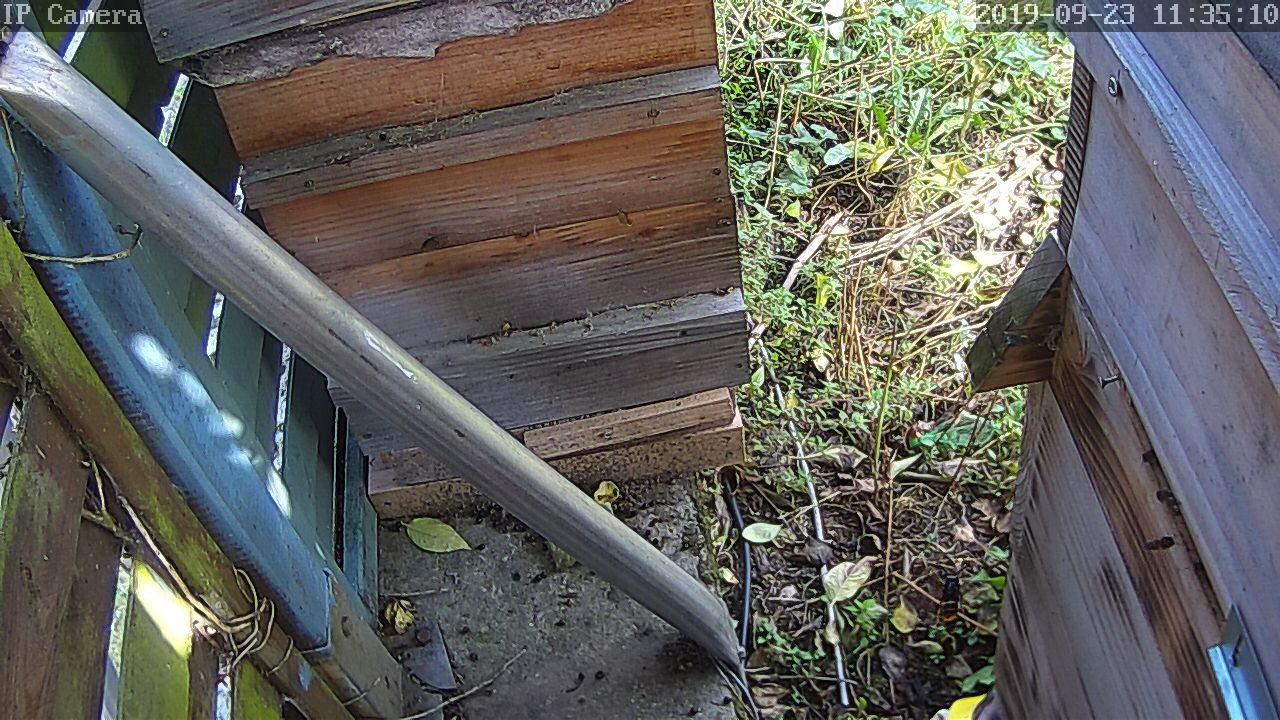bee: (1146, 532, 1181, 559), (1151, 483, 1182, 512)
hornet: (933, 571, 966, 633)
